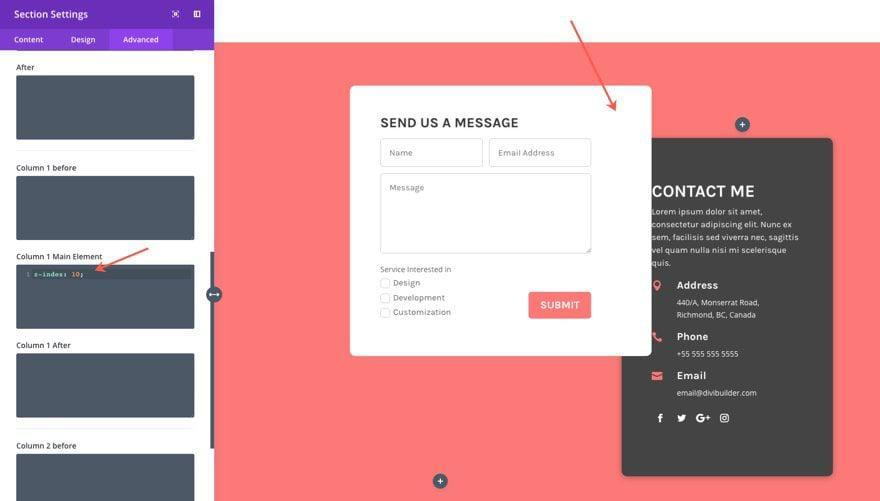button: (528, 291, 593, 321), (433, 472, 450, 490)
checkbox: (381, 293, 392, 305), (380, 279, 391, 290), (381, 309, 391, 319)
icon: (696, 412, 710, 425), (652, 332, 664, 347), (718, 414, 732, 426), (651, 372, 665, 384), (652, 281, 664, 294), (676, 414, 688, 426), (737, 119, 749, 131), (657, 413, 665, 425)
input: (379, 138, 485, 170), (487, 137, 593, 169)
label: (675, 281, 761, 322), (675, 370, 761, 402), (677, 332, 742, 363), (380, 266, 455, 277), (395, 310, 454, 320), (395, 294, 446, 305), (394, 279, 422, 288)
